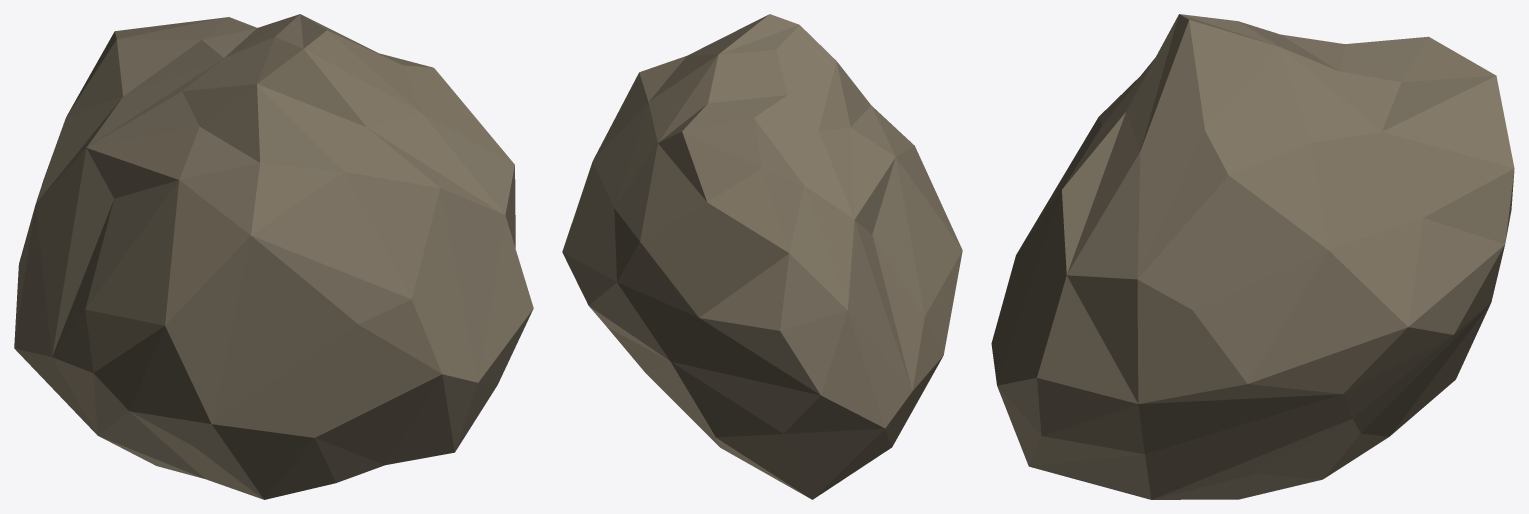
The model's file is MediumRock_5.fbx.
The picture shows the model from 3 angles, left to right: view 1: azimuth 30°, elevation 25°; view 2: azimuth 150°, elevation 25°; view 3: azimuth 270°, elevation 25°; orthographic projection. The views are drawn at different scales.
Parts seen in each view (by area): view 1: MediumRock_5; view 2: MediumRock_5; view 3: MediumRock_5.
Boxes of the visible parts, left/top/right/bottom form: MediumRock_5: left=14, top=14, right=533, bottom=499; MediumRock_5: left=562, top=14, right=962, bottom=499; MediumRock_5: left=991, top=14, right=1514, bottom=499.
Bounding box in the file's own units: 47.38 × 51.83 × 49.98.
